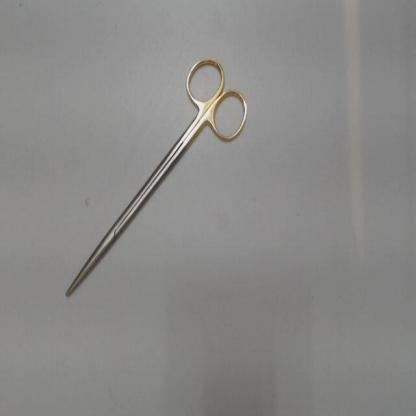7 Metzenbaum Scissors: (66, 55, 251, 298)
